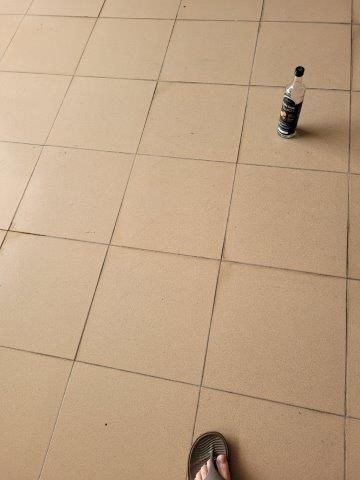botolkaca: (278, 67, 306, 138)
